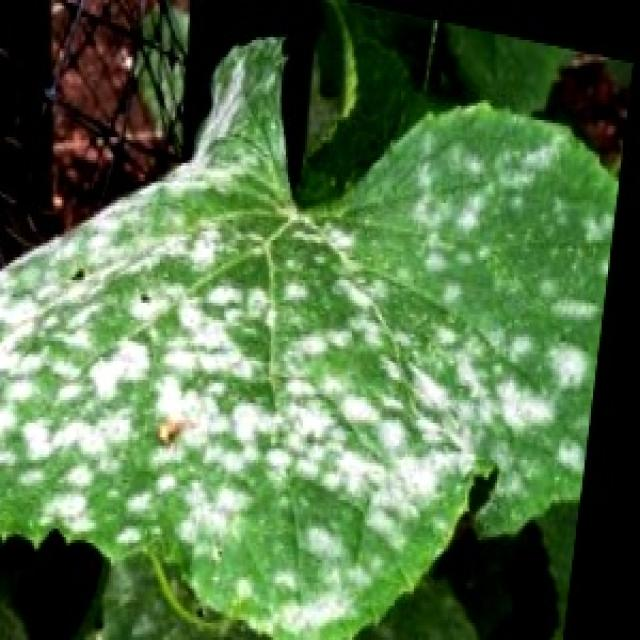Powdery_Mildew: (0, 38, 617, 640)
